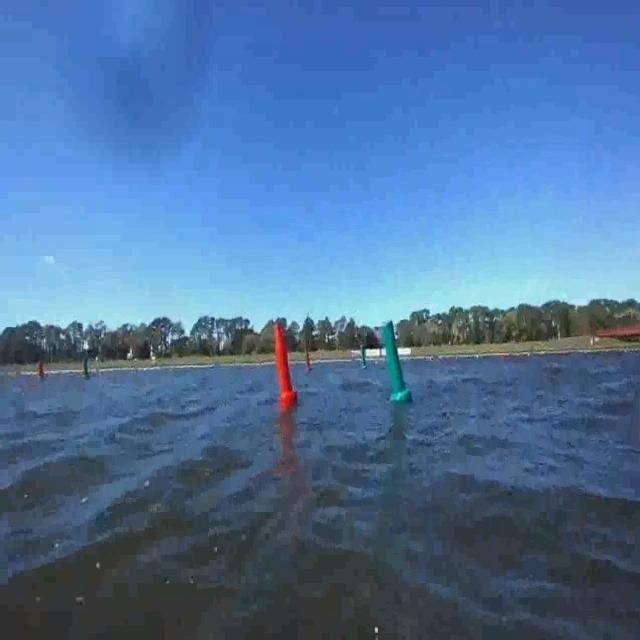green-column-buoy: (380, 321, 412, 405), (358, 337, 369, 371), (82, 354, 90, 379)
red-column-buoy: (272, 321, 296, 406), (303, 346, 315, 377), (37, 356, 46, 381)
